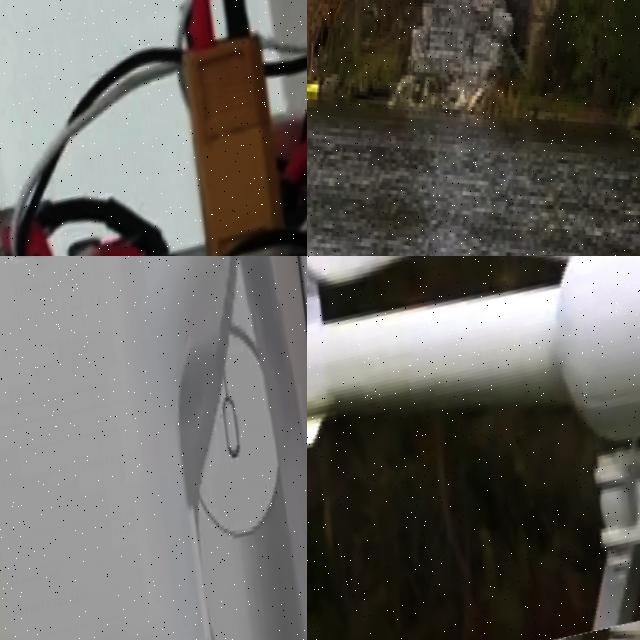drone: (307, 256, 640, 640), (0, 256, 307, 640), (0, 0, 307, 256)
